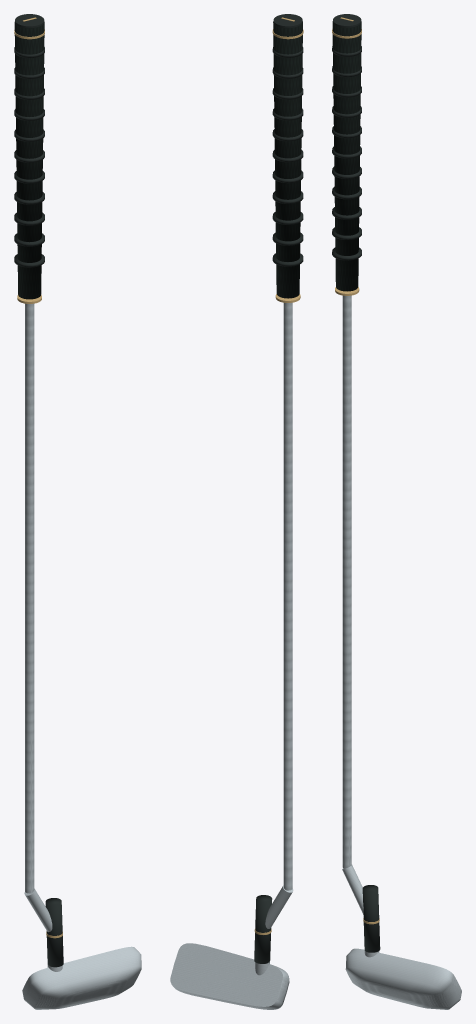
File: iron.glb
The picture shows the model from 3 angles, left to right: view 1: azimuth 30°, elevation 25°; view 2: azimuth 150°, elevation 25°; view 3: azimuth 330°, elevation 25°; orthographic projection. The views are drawn at different scales.
Parts seen in each view (by area): view 1: iron grip.004, iron concentric shaft, iron finished head.003, Ferrule.011, Hosel transition.001, Butt cap.010; view 2: iron grip.004, iron concentric shaft, iron finished head.003, Ferrule.011, Hosel transition.001, Butt cap.010; view 3: iron grip.004, iron concentric shaft, iron finished head.003, Ferrule.011, Hosel transition.001, Butt cap.010.
Part boxes in pixels (x1,y1,x2,y2): iron grip.004: (14, 22, 44, 299); iron concentric shaft: (25, 303, 34, 893); iron finished head.003: (22, 946, 141, 1009); Ferrule.011: (45, 898, 63, 967); Hosel transition.001: (24, 888, 52, 932); Butt cap.010: (15, 14, 44, 27); iron grip.004: (273, 21, 302, 298); iron concentric shaft: (283, 302, 292, 890); iron finished head.003: (170, 943, 289, 1009); Ferrule.011: (254, 895, 272, 963); Hosel transition.001: (265, 885, 293, 928); Butt cap.010: (273, 14, 302, 27); iron grip.004: (332, 21, 361, 291); iron concentric shaft: (342, 295, 351, 868); iron finished head.003: (345, 948, 461, 1009); Ferrule.011: (362, 885, 380, 952); Hosel transition.001: (342, 865, 363, 914); Butt cap.010: (333, 14, 361, 27).
Bounding box in the file's own units: 0.1235 × 0.9535 × 0.0411.
Materials: 4 (2 with a texture image).
